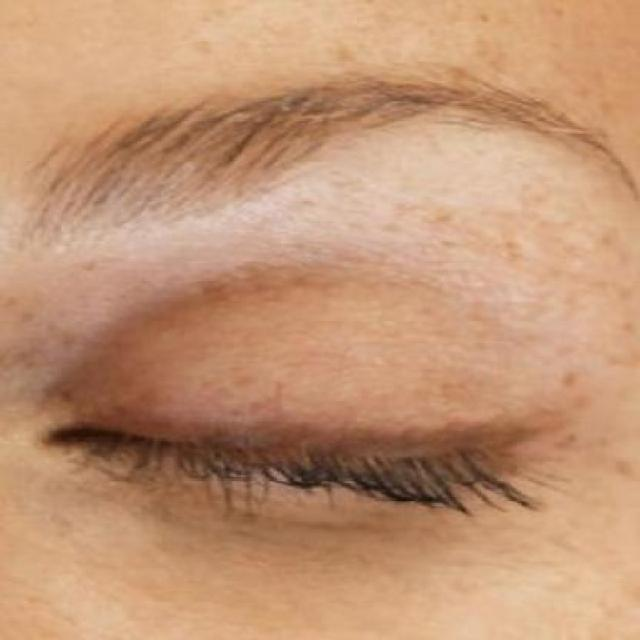drowsy: (50, 319, 528, 584)
